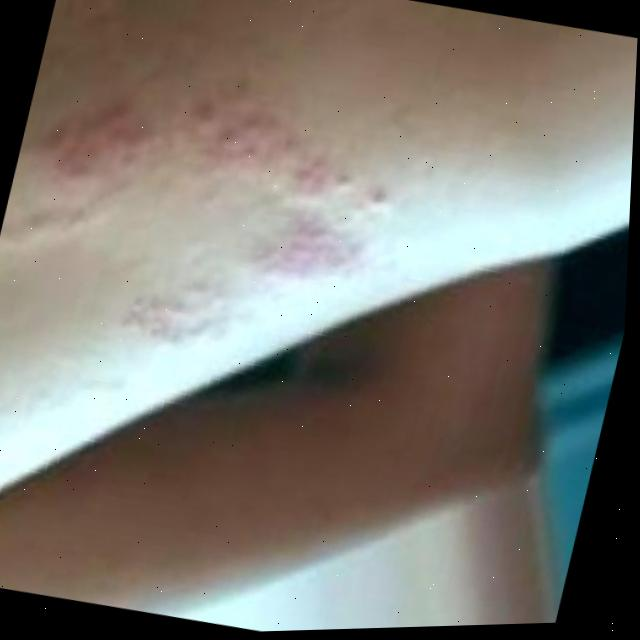Shingles: (6, 70, 386, 373)
